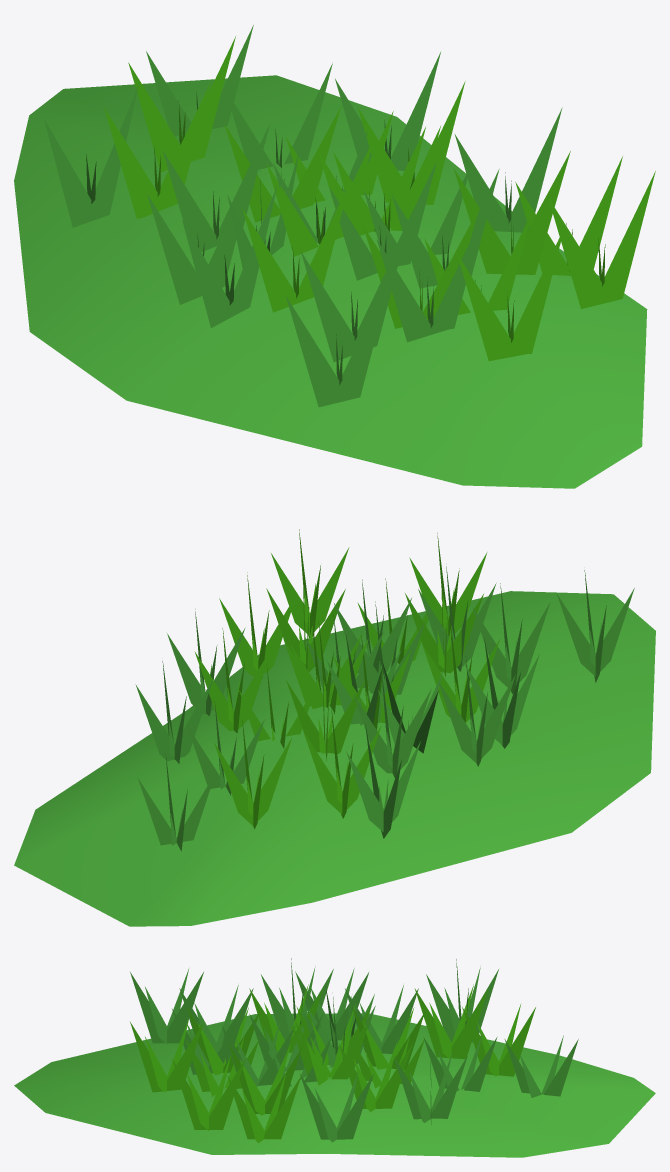
Rendered from 22RjqsDdegr.glb.
3 views of the same model, one above another, from view 1: azimuth 30°, elevation 25°; view 2: azimuth 150°, elevation 25°; view 3: azimuth 270°, elevation 25° (orthographic). The views are drawn at different scales.
Parts seen in each view (by area): view 1: Plane_020, Plane_021; view 2: Plane_020, Plane_021; view 3: Plane_020, Plane_021.
Boxes of the visible parts, x1,y1,x2,y2 form: Plane_020: (14,25,647,488); Plane_021: (104,36,655,361); Plane_020: (14,566,655,926); Plane_021: (194,529,500,829); Plane_020: (14,958,655,1157); Plane_021: (130,984,535,1142).
Bounding box in the file's own units: 3.5 × 0.9997 × 6.43.
